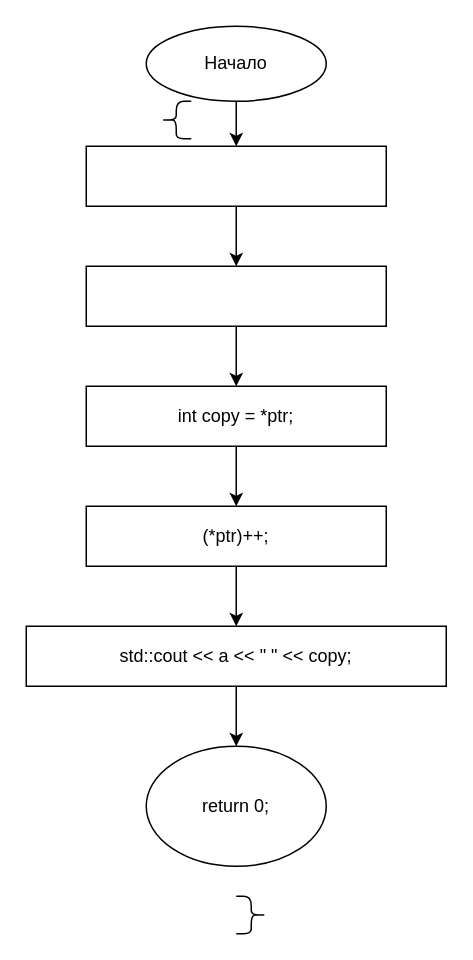
This 473x960 diagram has some shape labels left out. The shapes that lost their labels are listed below. From the top down, each one's centre as x and y in pixels, then its label:
[235,175]: int a = 12;
[235,295]: int* ptr = &a;
